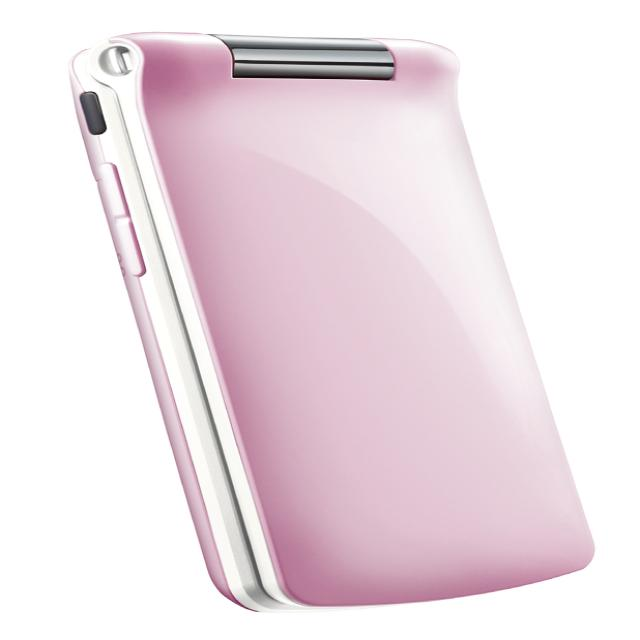Mobile-phone: (57, 34, 592, 616)
